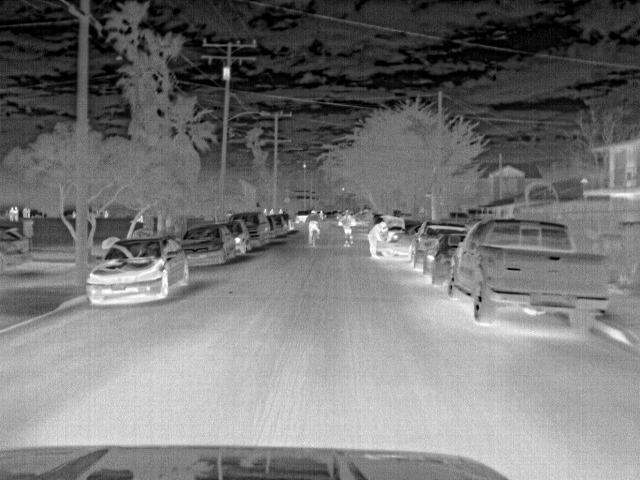car: (443, 218, 611, 335), (83, 235, 191, 305), (426, 230, 471, 287), (410, 222, 465, 268), (181, 226, 234, 265), (0, 225, 32, 274), (230, 214, 269, 248), (386, 222, 421, 259), (376, 216, 406, 254), (221, 221, 254, 255), (266, 215, 289, 234)
person: (366, 217, 388, 258), (304, 206, 323, 246), (336, 208, 354, 250)
